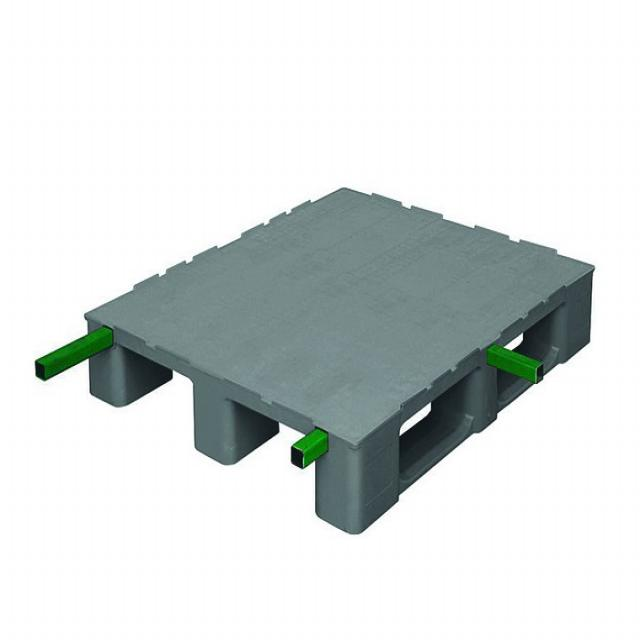Palette: (83, 177, 599, 540)
